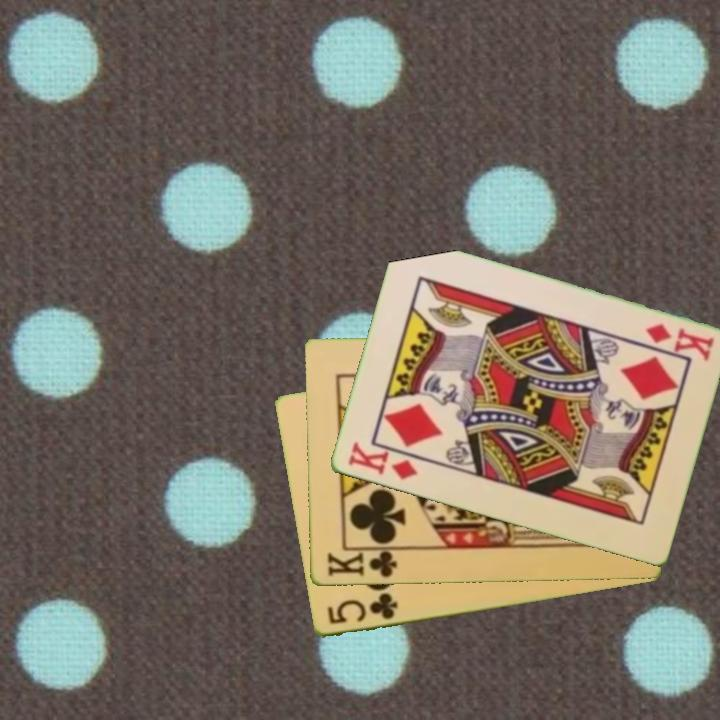5c: (323, 589, 401, 628)
Kc: (324, 546, 403, 580)
Kd: (343, 438, 420, 484), (642, 320, 716, 363)
